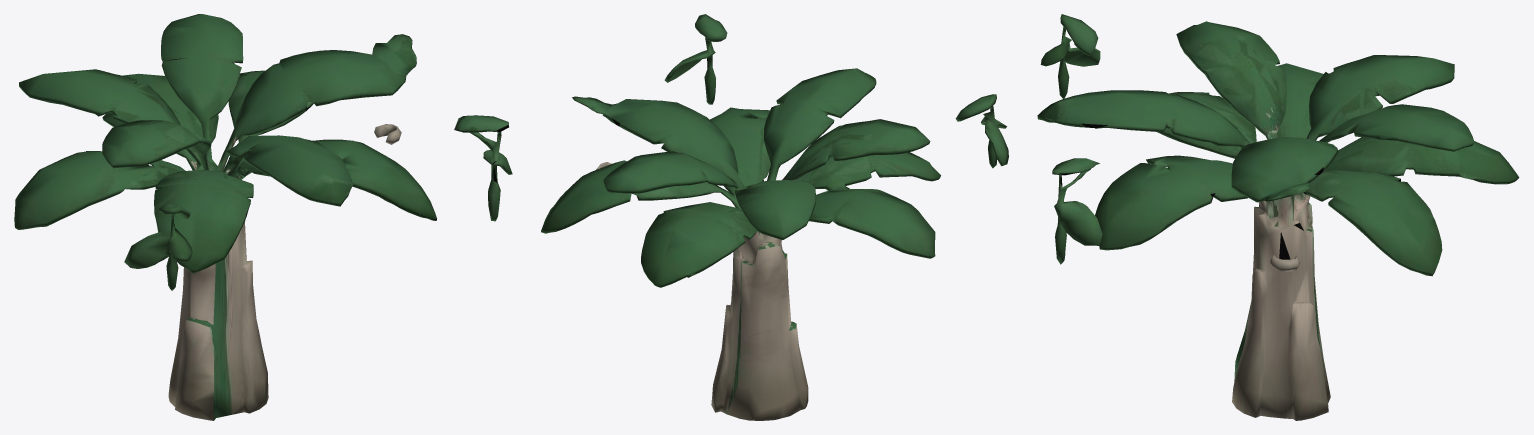
Rendered from prop_tree_d.glb.
The picture shows the model from 3 angles, left to right: view 1: azimuth 30°, elevation 25°; view 2: azimuth 150°, elevation 25°; view 3: azimuth 270°, elevation 25°; orthographic projection. The views are drawn at different scales.
Parts seen in each view (by area): view 1: Mesh_0; view 2: Mesh_0; view 3: Mesh_0.
Boxes of the visible parts, <box> form: Mesh_0: <box>14,14,512,420</box>; Mesh_0: <box>541,14,1008,420</box>; Mesh_0: <box>1037,14,1519,420</box>.
Size of the model in its own units: 1.83 by 1.38 by 1.89.
1 material, 1 textured.
